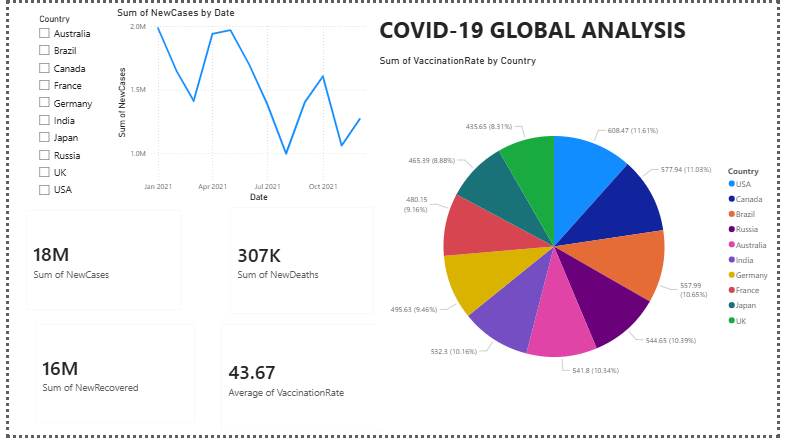

What the dashboard file says about the page in this screenshot:
{"tool":"powerbi","page":{"name":"Page 1","canvas":[1280,720],"ordinal":0},"visuals":[{"type":"cardVisual","fields":{"Data":["Avg(Sheet1.VaccinationRate)"]},"box":[347.7,530.8,280.5,189.8],"z":0},{"type":"cardVisual","fields":{"Data":["Sum(Sheet1.NewCases)"]},"box":[23.5,341,270.4,176.4],"z":1000},{"type":"cardVisual","fields":{"Data":["Sum(Sheet1.NewRecovered)"]},"box":[37,530.8,277.2,174.7],"z":2000},{"type":"cardVisual","fields":{"Data":["Sum(Sheet1.NewDeaths)"]},"box":[362.8,336,250.3,188.1],"z":3000},{"type":"slicer","fields":{"Values":["Sheet1.Country"]},"box":[37,13.4,191.5,327.6],"z":4000},{"type":"pieChart","fields":{"Category":["Sheet1.Country"],"Y":["Sum(Sheet1.VaccinationRate)"]},"box":[613.1,84,666.9,621.5],"z":5000},{"type":"lineChart","fields":{"Category":["Sheet1.Date"],"Y":["Sum(Sheet1.NewCases)"]},"box":[174.7,5,438.4,330.9],"z":6000},{"type":"textbox","box":[613.1,13.4,537.5,70.6],"z":7000}]}

Visuals, with their boxes in screenshot pixels (x1, y1, x2, y2), scaled from the page's 1280x720 canvas onto the 786x446 screenshot:
cardVisual - Avg(Sheet1.VaccinationRate): (214, 329, 386, 445)
cardVisual - Sum(Sheet1.NewCases): (14, 211, 180, 321)
cardVisual - Sum(Sheet1.NewRecovered): (23, 329, 193, 437)
cardVisual - Sum(Sheet1.NewDeaths): (223, 208, 376, 325)
slicer - Sheet1.Country: (23, 8, 140, 211)
pieChart - Sheet1.Country x Sum(Sheet1.VaccinationRate): (376, 52, 785, 437)
lineChart - Sheet1.Date x Sum(Sheet1.NewCases): (107, 3, 376, 208)
textbox: (376, 8, 707, 52)
